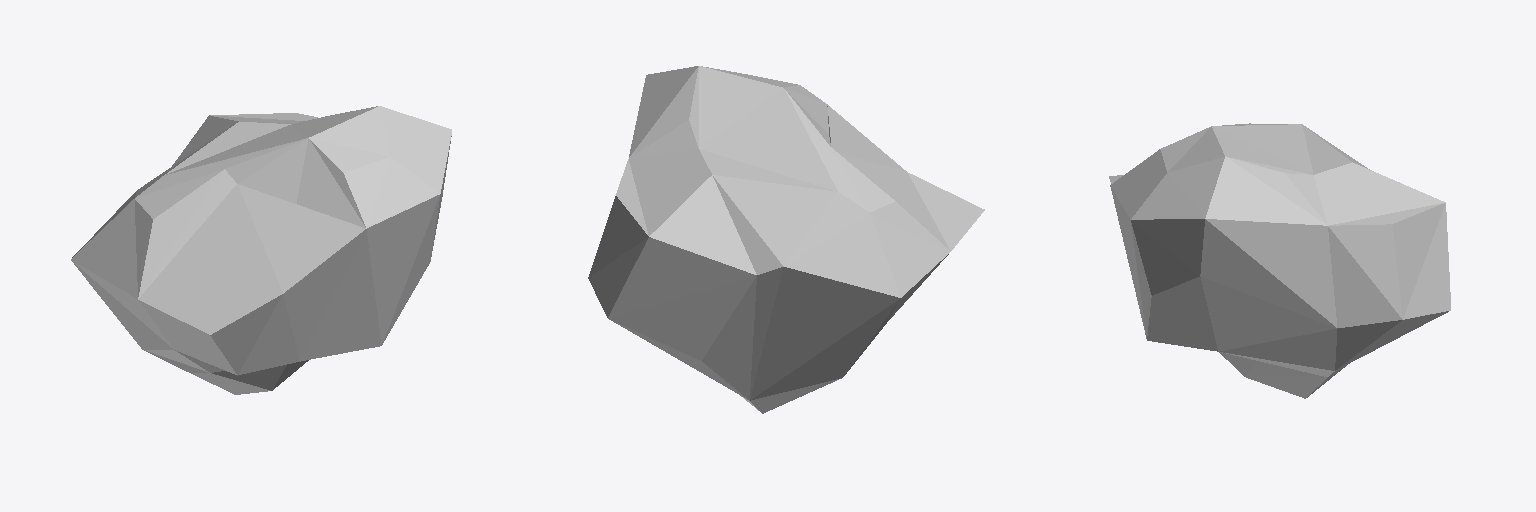
Rendered from Rock1.obj.
3 views of the same model, side by side, from view 1: azimuth 30°, elevation 25°; view 2: azimuth 150°, elevation 25°; view 3: azimuth 270°, elevation 25° (orthographic).
Visible parts, largest first — view 1: Icosphere.014_Icosphere.001; view 2: Icosphere.014_Icosphere.001; view 3: Icosphere.014_Icosphere.001.
Boxes of the visible parts, x1,y1,x2,y2 form: Icosphere.014_Icosphere.001: [71, 106, 451, 394]; Icosphere.014_Icosphere.001: [588, 66, 984, 413]; Icosphere.014_Icosphere.001: [1109, 123, 1450, 398].
Size of the model in its own units: 1.42 by 1.25 by 1.32.